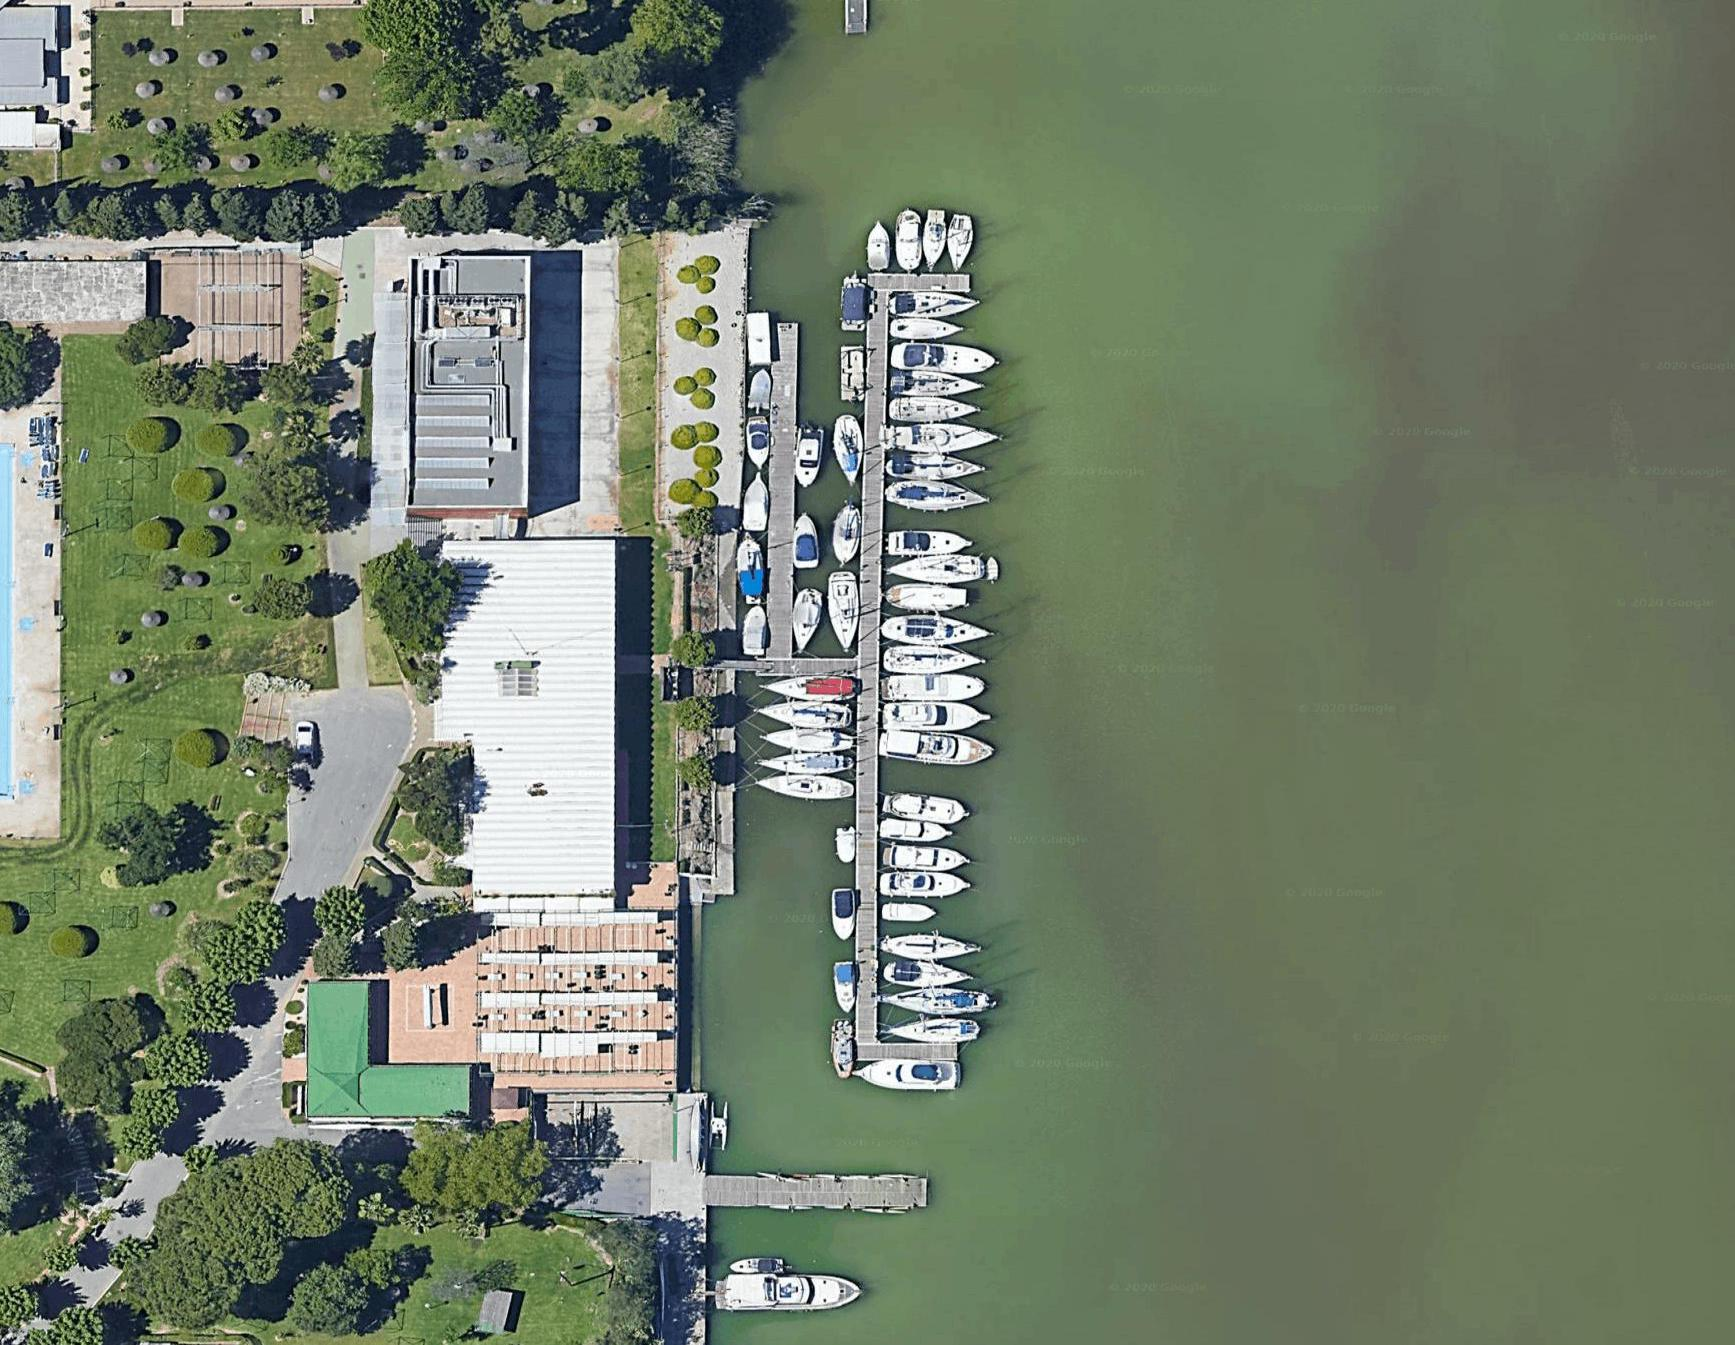harbor: (829, 261, 979, 1075), (729, 1166, 929, 1215)
ship: (720, 1266, 862, 1313), (891, 341, 1000, 377), (858, 1053, 958, 1091), (870, 1013, 977, 1048), (758, 768, 855, 806), (887, 389, 982, 423), (882, 528, 970, 559), (828, 572, 860, 646), (918, 983, 998, 1013), (796, 423, 825, 490), (794, 584, 822, 651), (834, 415, 863, 477), (832, 501, 860, 561), (946, 210, 975, 268), (865, 220, 890, 277), (834, 961, 858, 1010), (831, 890, 856, 937)
